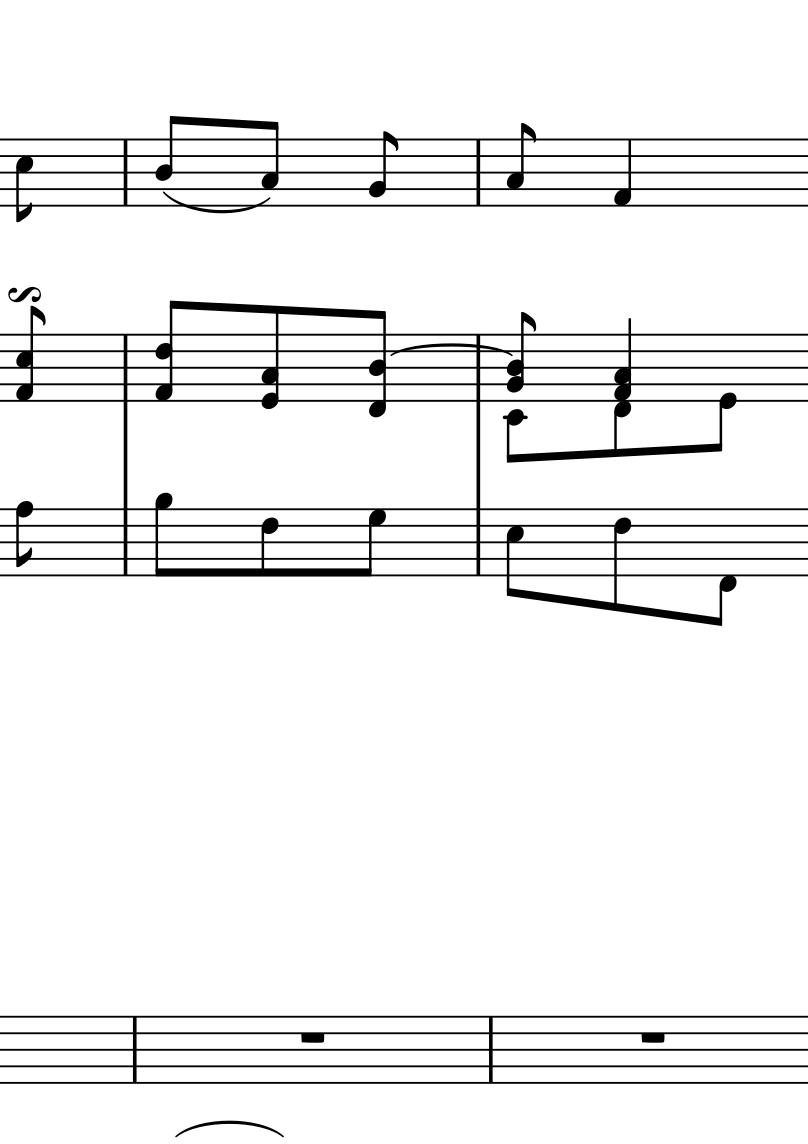4_1: (611, 137, 633, 210)
8_-1: (711, 506, 739, 626)
8_-1_4: (367, 308, 389, 418)
8_0: (712, 333, 739, 455)
8_0_3: (261, 303, 283, 409)
8_1_5: (16, 305, 50, 406)
8_1_6: (155, 300, 187, 403)
8_2: (366, 129, 400, 208)
8_3: (506, 123, 537, 207), (259, 119, 280, 208)
8_4: (153, 112, 184, 207)
8_5: (504, 506, 525, 601), (14, 137, 35, 221)
8_6: (612, 507, 632, 613), (260, 506, 279, 579)
8_7: (359, 507, 388, 578)
8_8: (14, 500, 34, 578)
8_9: (154, 492, 173, 578)
Inverted_turn: (5, 285, 43, 304)
Rests1: (295, 1026, 339, 1047), (628, 1025, 671, 1046)
Single_barline: (116, 508, 137, 576), (116, 334, 137, 402), (469, 508, 489, 575), (470, 335, 489, 403), (481, 1016, 500, 1083), (470, 139, 488, 205), (127, 1015, 143, 1083), (118, 139, 134, 205)
Slur: (162, 191, 269, 214), (173, 1118, 286, 1138), (389, 341, 510, 357)
